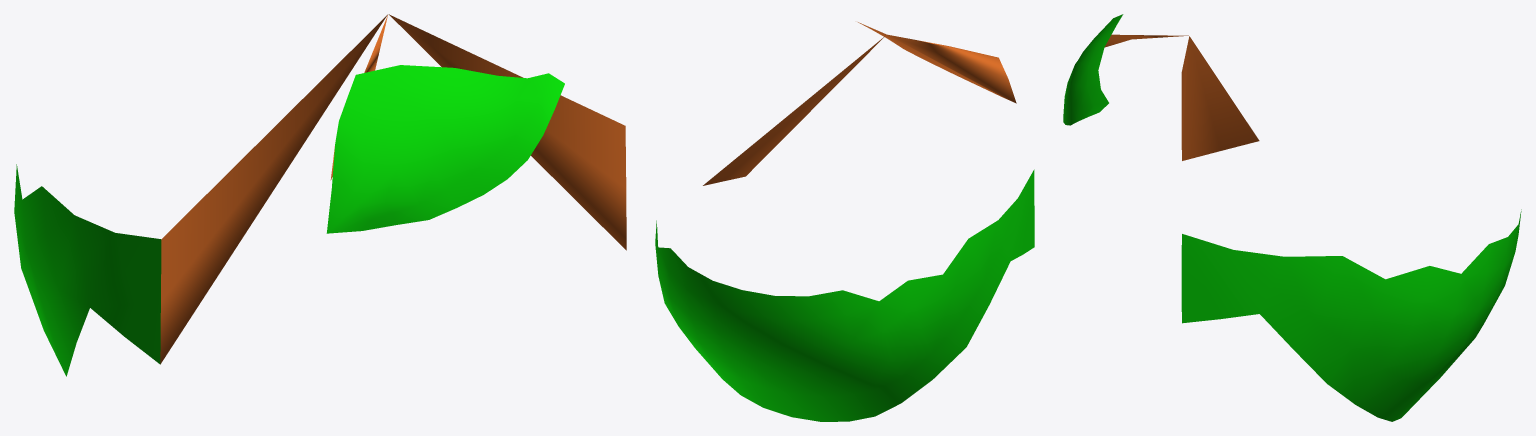
Rendered from Hair2_51.glb.
The picture shows the model from 3 angles, left to right: view 1: azimuth 30°, elevation 25°; view 2: azimuth 150°, elevation 25°; view 3: azimuth 270°, elevation 25°; orthographic projection. The views are drawn at different scales.
Bounding box in the file's own units: 52.6 × 50.99 × 58.92.
